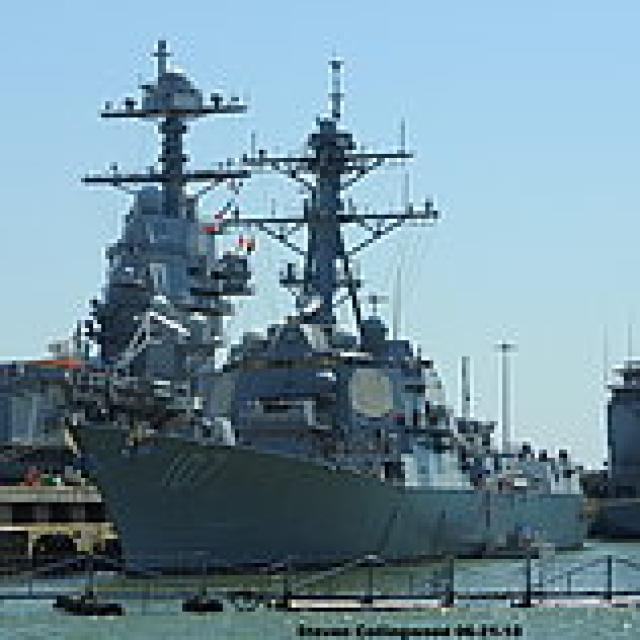Warship: (61, 24, 591, 567)
